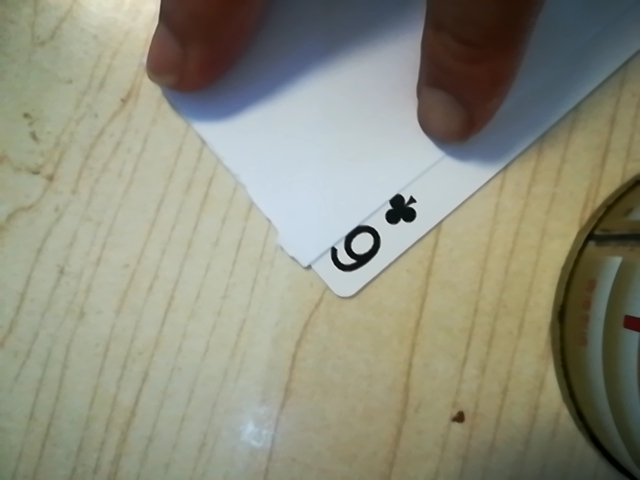mh 6: (319, 185, 426, 283)
